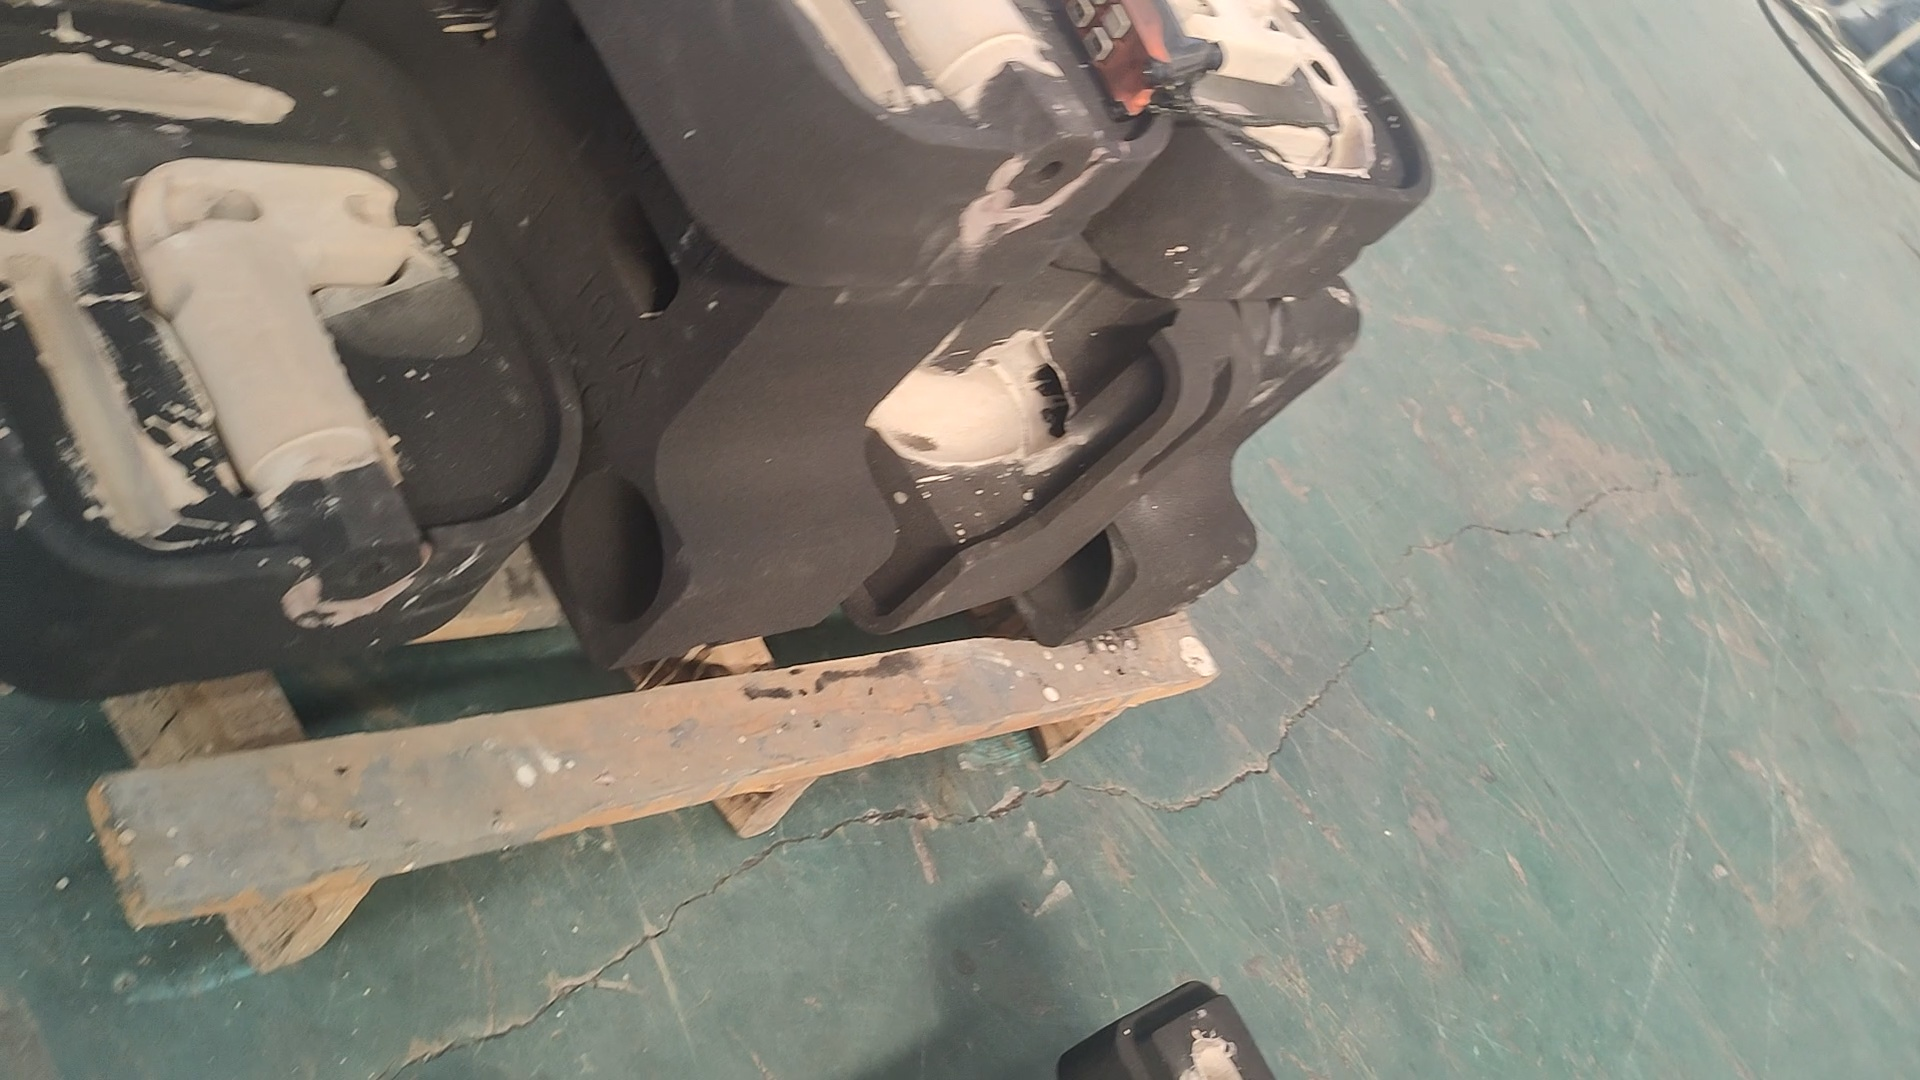pouring hole: (558, 469, 663, 622), (1011, 512, 1114, 615)
